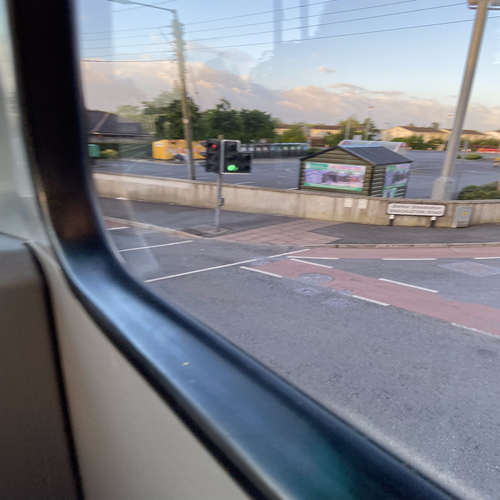Traffic Light: (215, 137, 251, 175)
